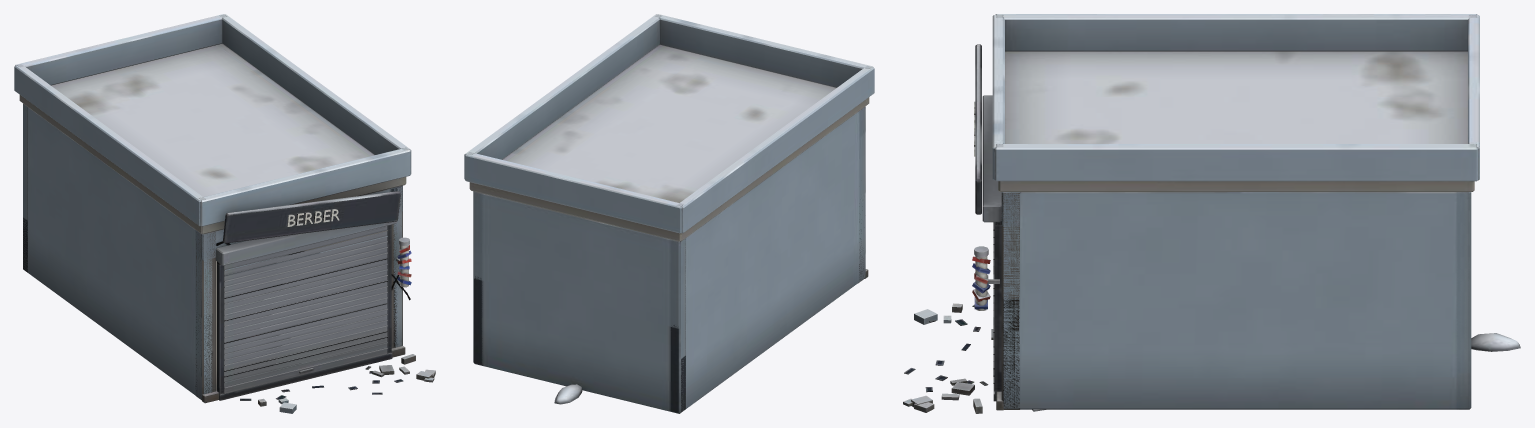
File: bld_shop_berber.glb
3 renders of one model, left to right at view 1: azimuth 30°, elevation 25°; view 2: azimuth 150°, elevation 25°; view 3: azimuth 270°, elevation 25°, orthographic. The views are drawn at different scales.
Visible parts, largest first — view 1: bld_shop_berber; view 2: bld_shop_berber; view 3: bld_shop_berber.
Part boxes in pixels (x1,y1,x2,y2): bld_shop_berber: [14, 14, 435, 413]; bld_shop_berber: [464, 14, 874, 413]; bld_shop_berber: [903, 14, 1520, 413].
Size of the model in its own units: 4.79 by 4.4 by 9.2.
Materials: 1 (1 with a texture image).
